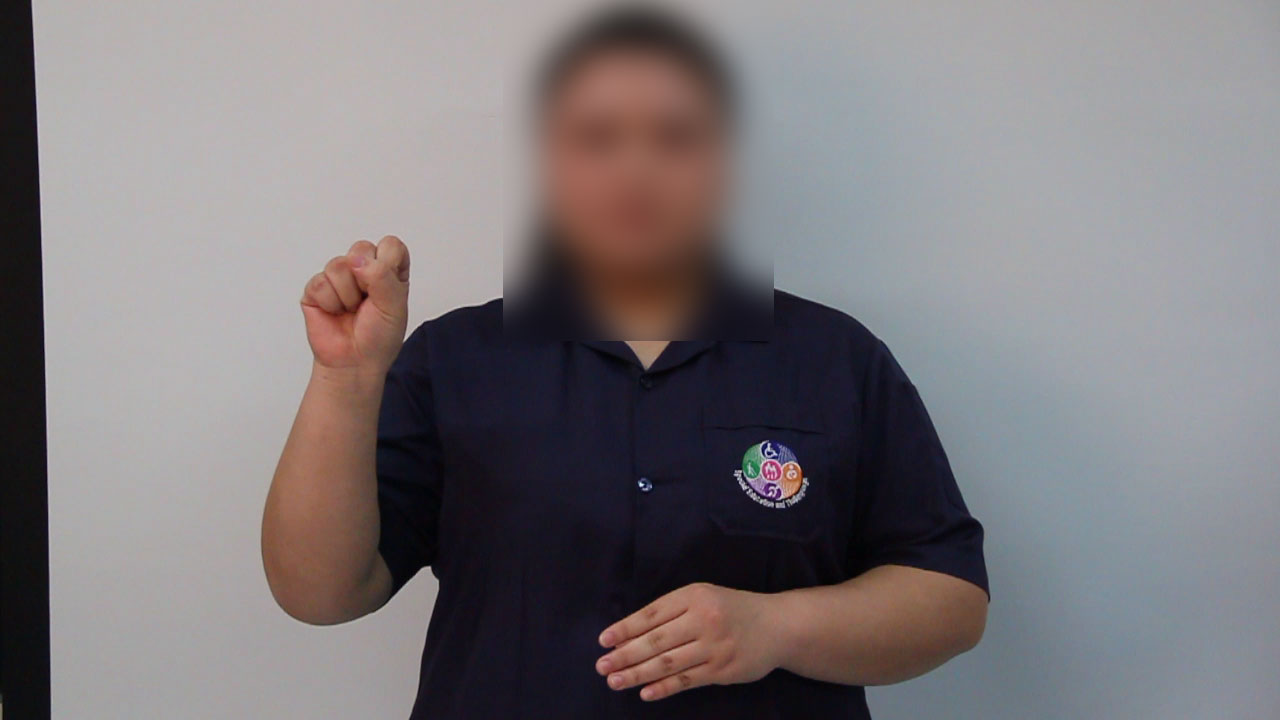sor: (292, 221, 423, 380)
